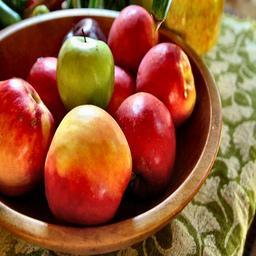apple: (45, 105, 132, 225), (1, 78, 58, 196), (114, 92, 175, 191), (136, 42, 196, 127), (57, 36, 115, 107), (108, 5, 157, 74)
